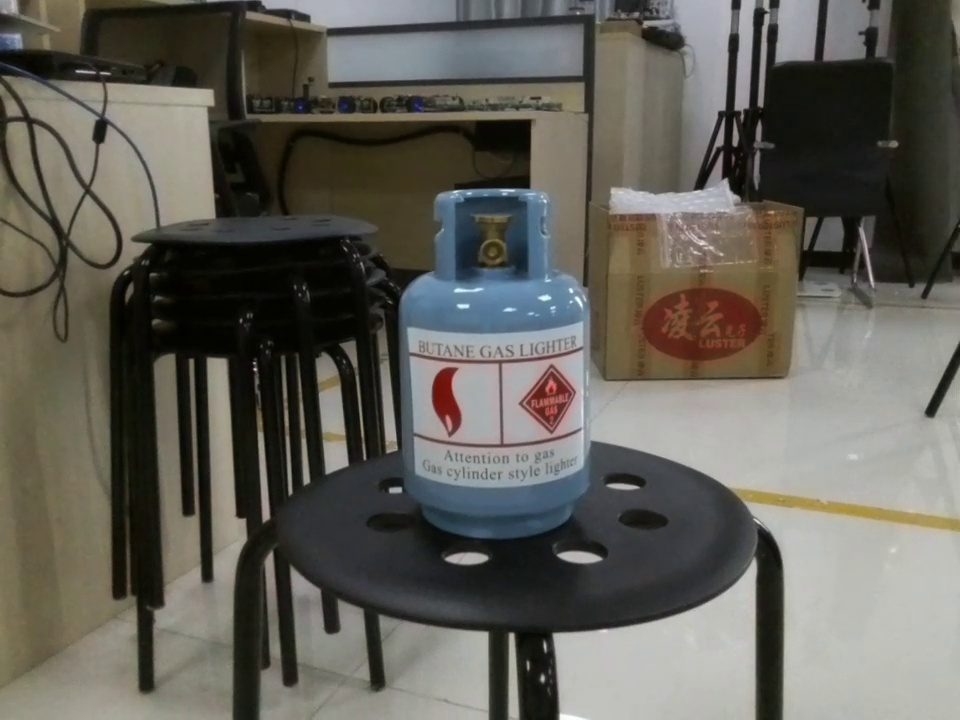gas tank: (389, 183, 614, 546)
